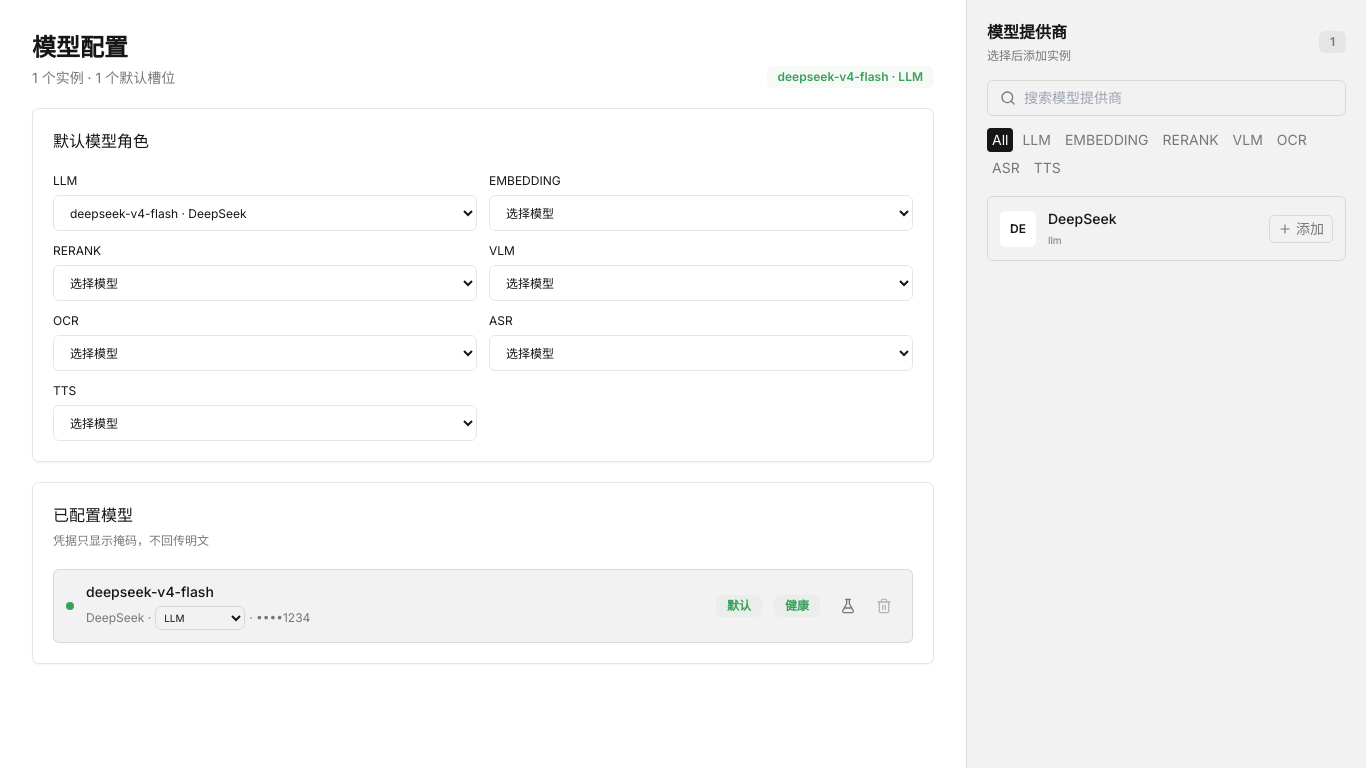
Test case: RAGFlow-style operations pages › shows the real default model and tests its health
expect the text "deepseek-v4-flash" is shown: met, box [86,583,214,600]
expect the text "健康" is shown: met, box [774,595,820,617]
Click the button named "测试 deepseek-v4-flash" at (848, 606), box [832,590,864,622]
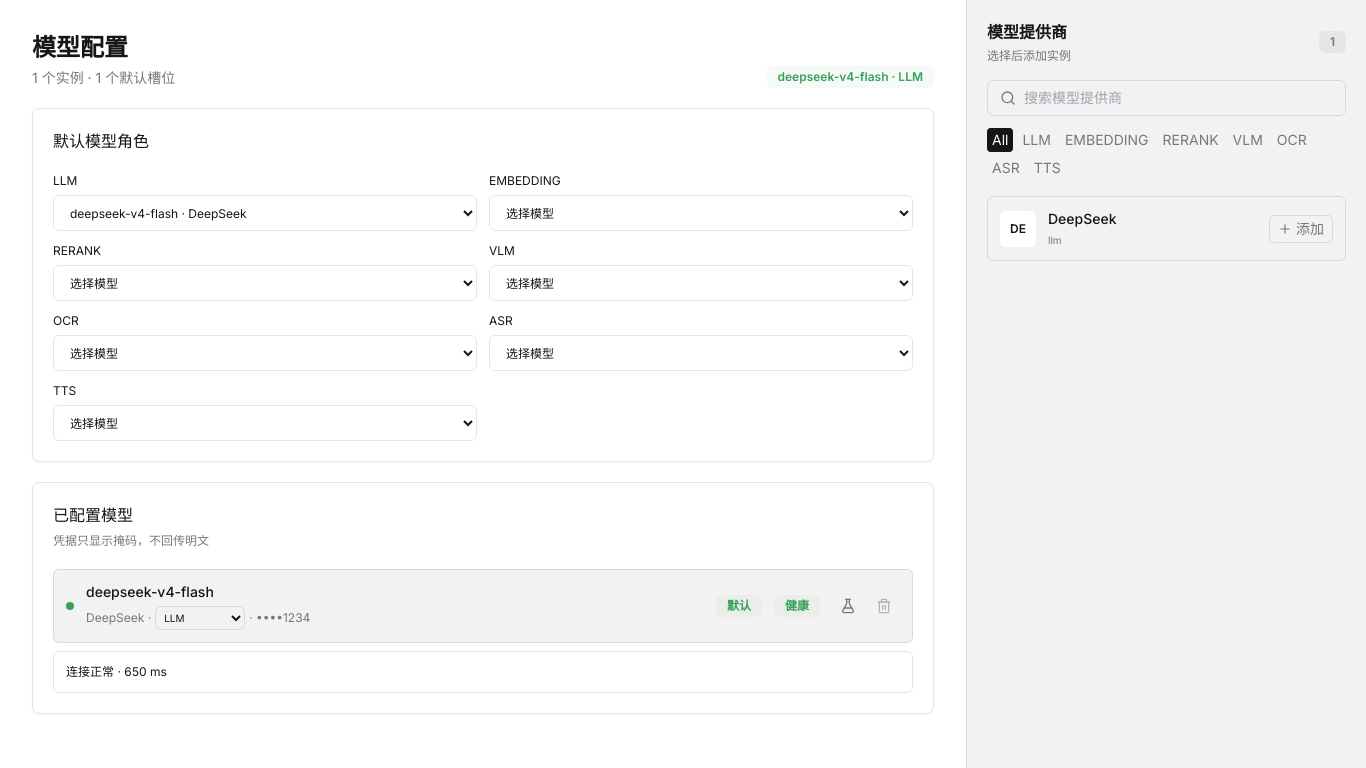
expect the text "连接正常 · 650 ms" is shown: met, box [53,651,913,693]
